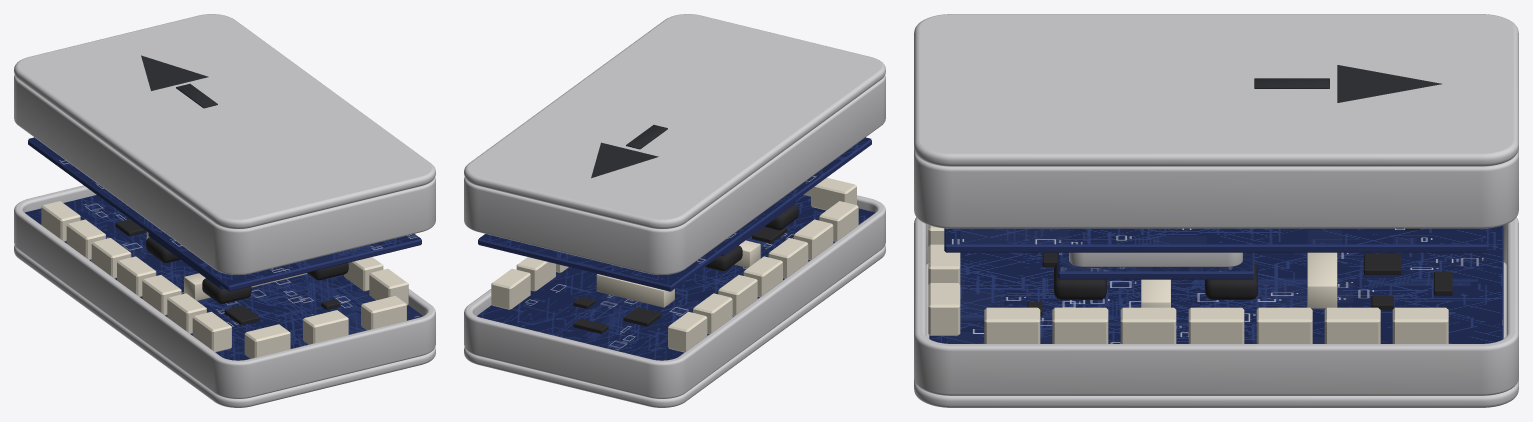
3 renders of one model, left to right at view 1: azimuth 30°, elevation 25°; view 2: azimuth 150°, elevation 25°; view 3: azimuth 270°, elevation 25°, orthographic. The views are drawn at different scales.
Visible parts, largest first — view 1: fc_lid, fc_base, fc_bottom, fc_core, fc_foam; view 2: fc_lid, fc_base, fc_bottom, fc_core, fc_foam; view 3: fc_lid, fc_base, fc_bottom, fc_core, fc_imu, fc_can, fc_foam.
Boxes of the visible parts, bbox=[...] form: fc_lid: bbox=[14, 14, 435, 274]; fc_base: bbox=[25, 195, 422, 360]; fc_bottom: bbox=[14, 185, 435, 407]; fc_core: bbox=[28, 137, 421, 291]; fc_foam: bbox=[146, 237, 348, 303]; fc_lid: bbox=[464, 14, 885, 274]; fc_base: bbox=[477, 177, 874, 360]; fc_bottom: bbox=[464, 189, 885, 407]; fc_core: bbox=[478, 137, 871, 291]; fc_foam: bbox=[705, 204, 798, 271]; fc_lid: bbox=[914, 14, 1518, 228]; fc_base: bbox=[928, 225, 1503, 343]; fc_bottom: bbox=[914, 217, 1518, 407]; fc_core: bbox=[944, 228, 1488, 252]; fc_imu: bbox=[1057, 252, 1254, 279]; fc_can: bbox=[1069, 252, 1242, 266]; fc_foam: bbox=[1054, 263, 1257, 299].
Bounding box in the file's own units: 0.045 × 0.0372 × 0.08.
10 materials, 1 textured.
